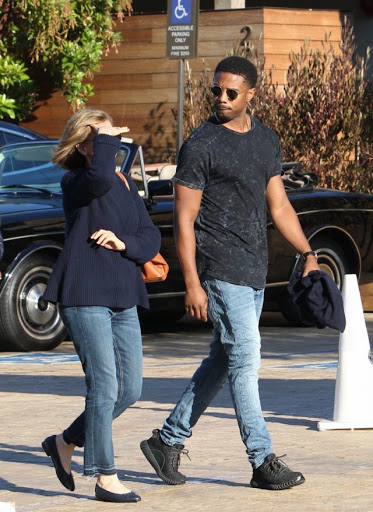Person: (161, 59, 333, 486), (37, 95, 148, 499)
